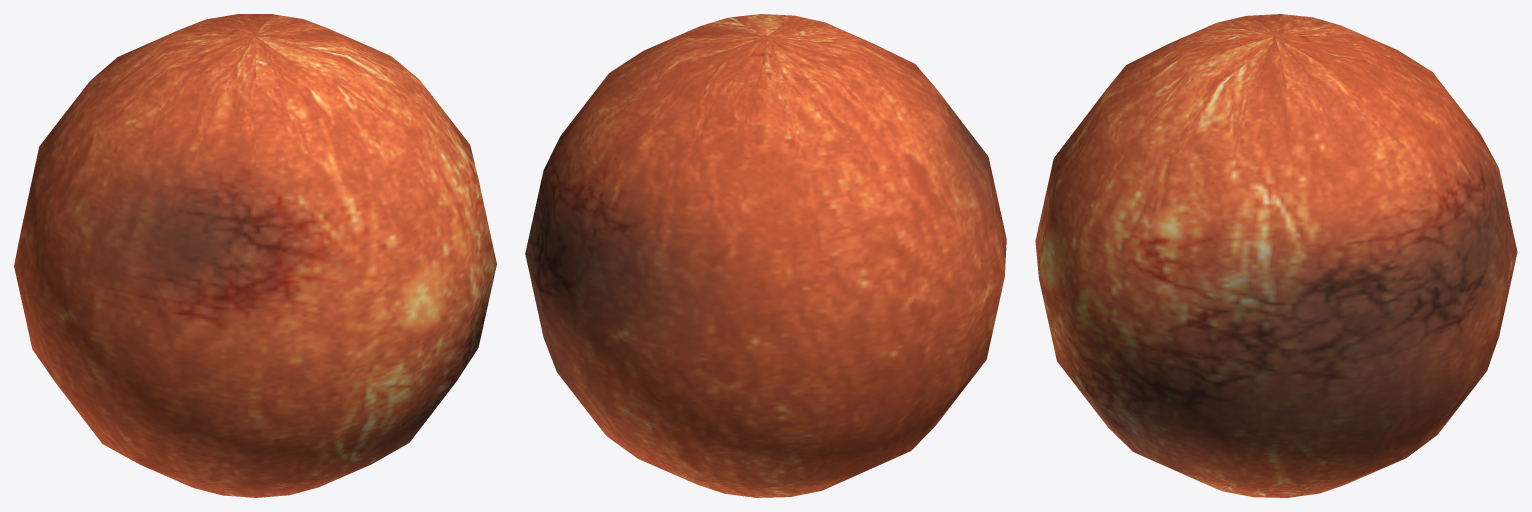
File: ARS.fbx
3 renders of one model, left to right at view 1: azimuth 30°, elevation 25°; view 2: azimuth 150°, elevation 25°; view 3: azimuth 270°, elevation 25°, orthographic.
Visible parts, largest first — view 1: Ars; view 2: Ars; view 3: Ars.
Part boxes in pixels (x1,y1,x2,y2): Ars: [14, 14, 496, 497]; Ars: [525, 14, 1006, 497]; Ars: [1035, 14, 1517, 497].
Bounding box in the file's own units: 35058 × 35235 × 35035.
